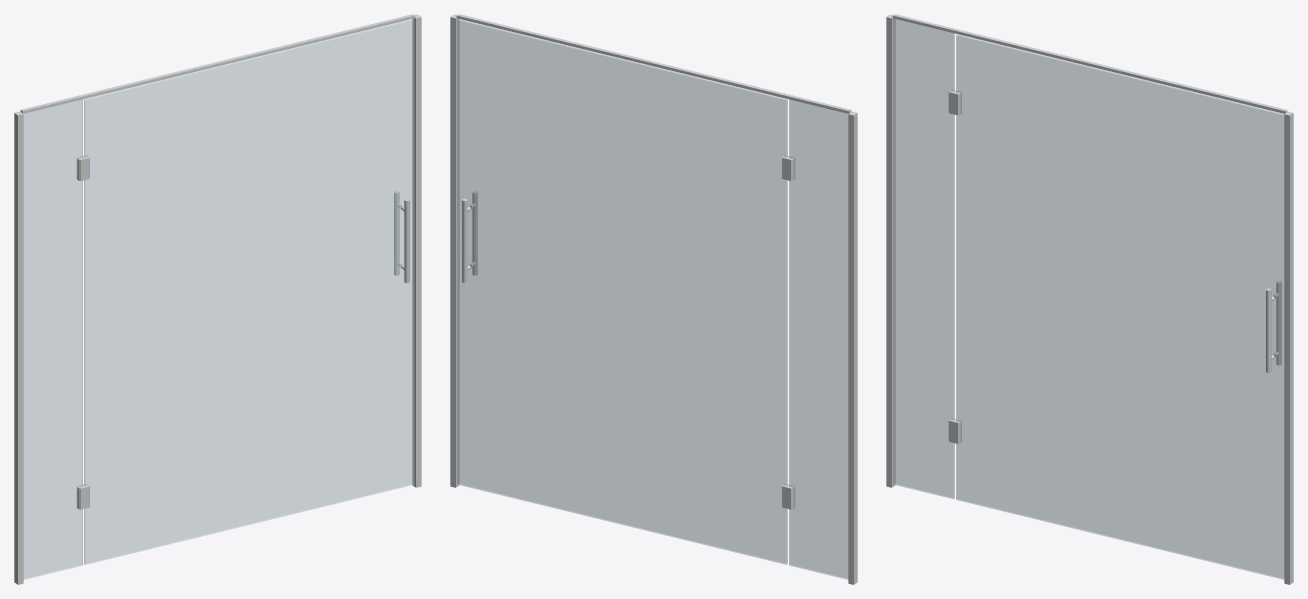
3 renders of one model, left to right at view 1: azimuth 30°, elevation 25°; view 2: azimuth 150°, elevation 25°; view 3: azimuth 330°, elevation 25°, orthographic.
Parts seen in each view (by area): view 1: Vách tắm kính Rộng=1800; view 2: Vách tắm kính Rộng=1800; view 3: Vách tắm kính Rộng=1800.
Part boxes in pixels (bbox=[...]): Vách tắm kính Rộng=1800: bbox=[14, 14, 421, 584]; Vách tắm kính Rộng=1800: bbox=[450, 14, 857, 584]; Vách tắm kính Rộng=1800: bbox=[886, 14, 1293, 584].
Bounding box in the file's own units: 1.8 × 2.01 × 0.102.
